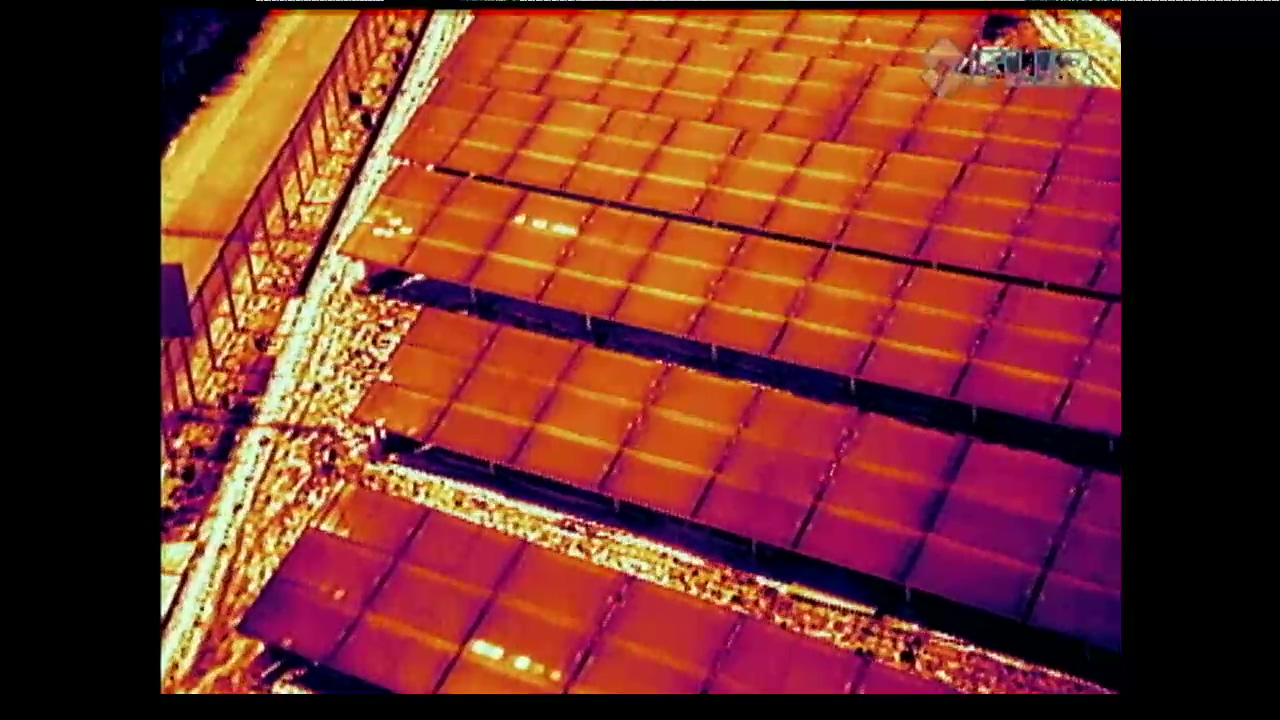hotspot: (426, 543, 634, 699), (466, 185, 595, 297), (342, 163, 455, 272)
